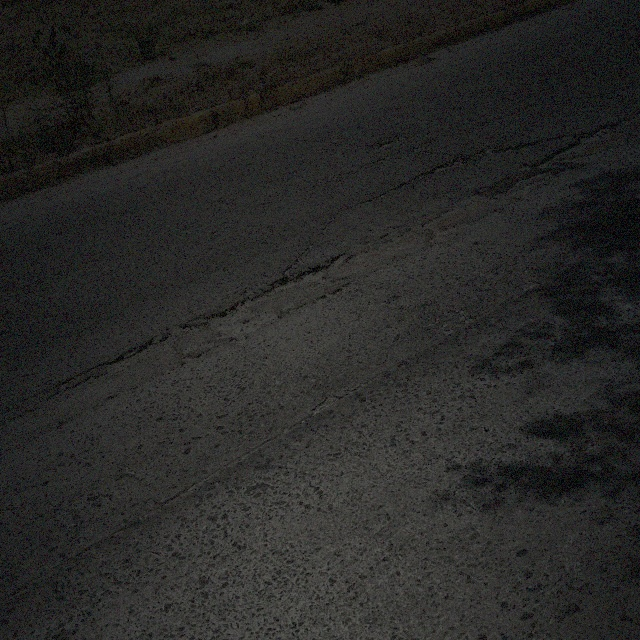pothole: (107, 320, 192, 374), (208, 284, 275, 352), (540, 119, 616, 172), (269, 254, 343, 293), (311, 392, 343, 419), (56, 374, 75, 394), (376, 138, 394, 152)
